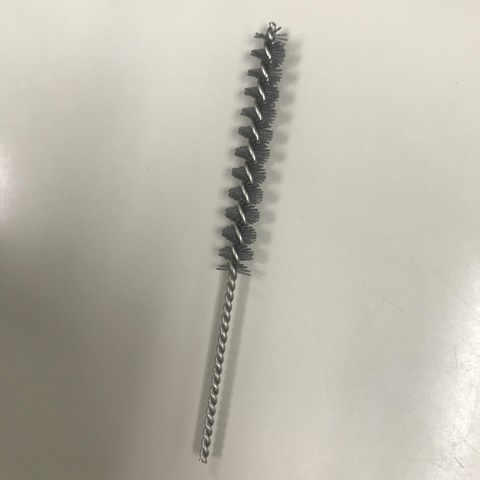Twist Brush-A: (186, 23, 295, 470)
